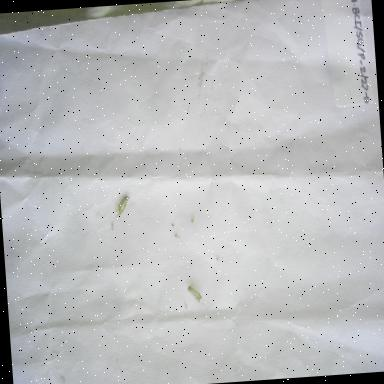pbw: (110, 192, 132, 218), (181, 280, 204, 304)
